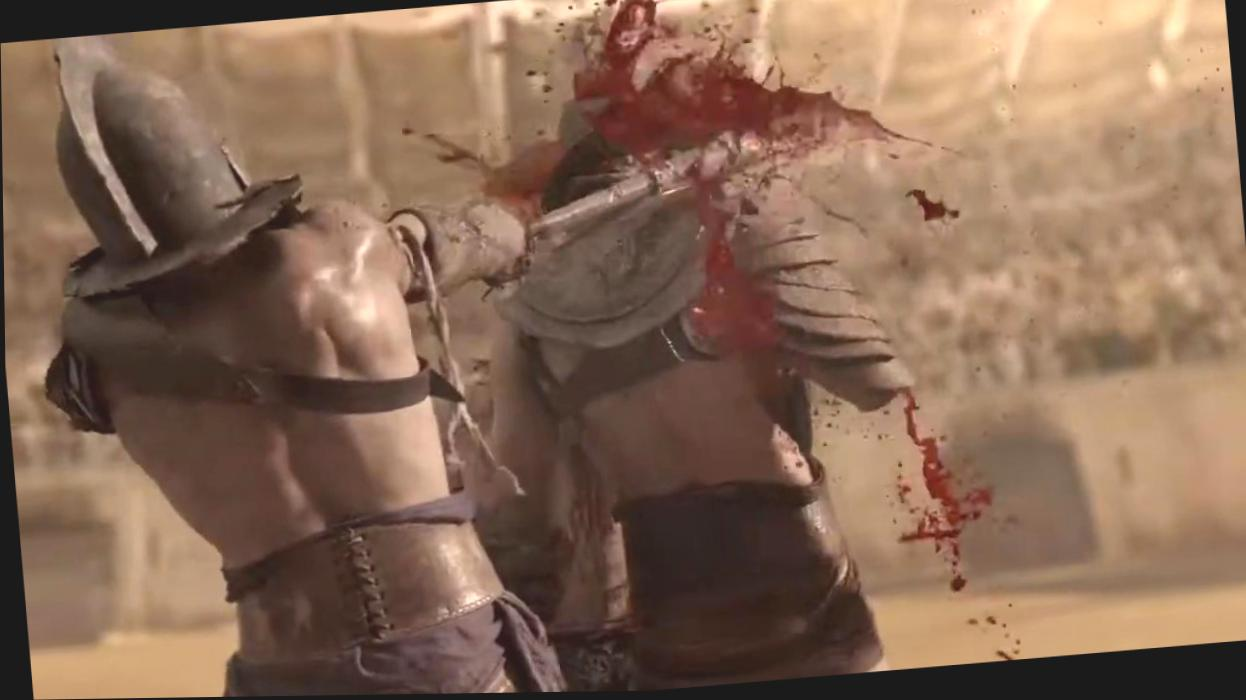Fire: (424, 0, 897, 354), (898, 390, 992, 595), (906, 190, 960, 224), (983, 617, 1020, 664)
